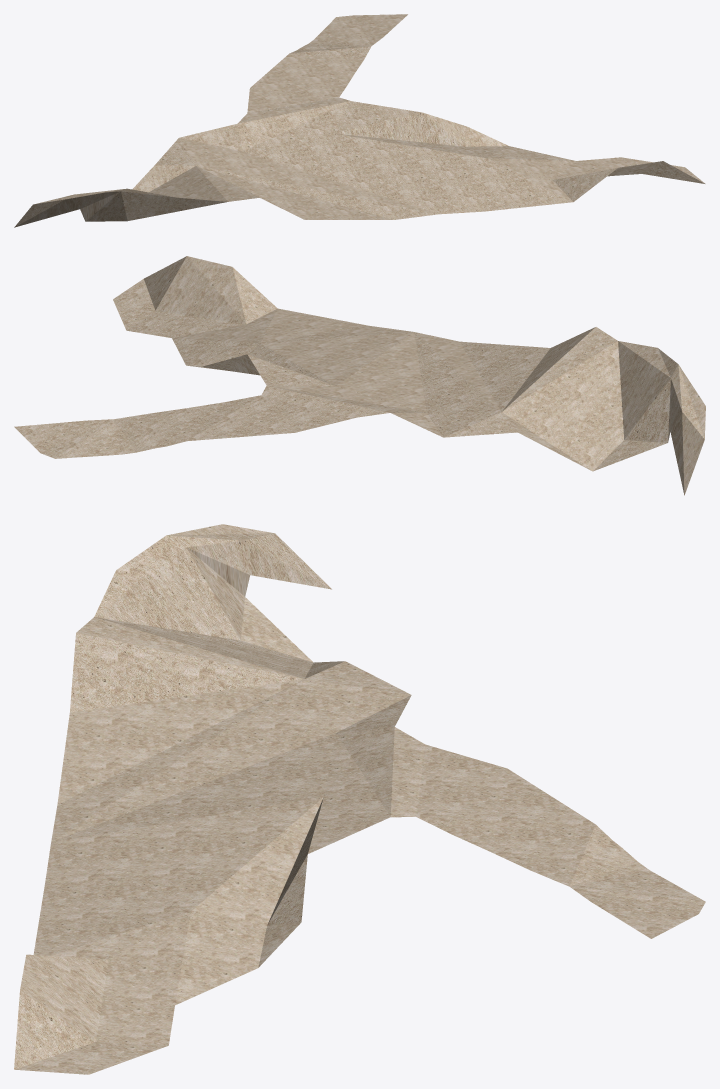
File: lodseabed135.obj
3 renders of one model, top to bottom at view 1: azimuth 30°, elevation 25°; view 2: azimuth 150°, elevation 25°; view 3: azimuth 270°, elevation 25°, orthographic. The views are drawn at different scales.
Parts seen in each view (by area): view 1: lodseabed135; view 2: lodseabed135; view 3: lodseabed135.
Boxes of the visible parts, x1=… form: lodseabed135: x1=14, y1=14, x2=705, y2=227; lodseabed135: x1=14, y1=256, x2=705, y2=495; lodseabed135: x1=14, y1=524, x2=705, y2=1074.
Bounding box in the file's own units: 434 × 63.18 × 285.
